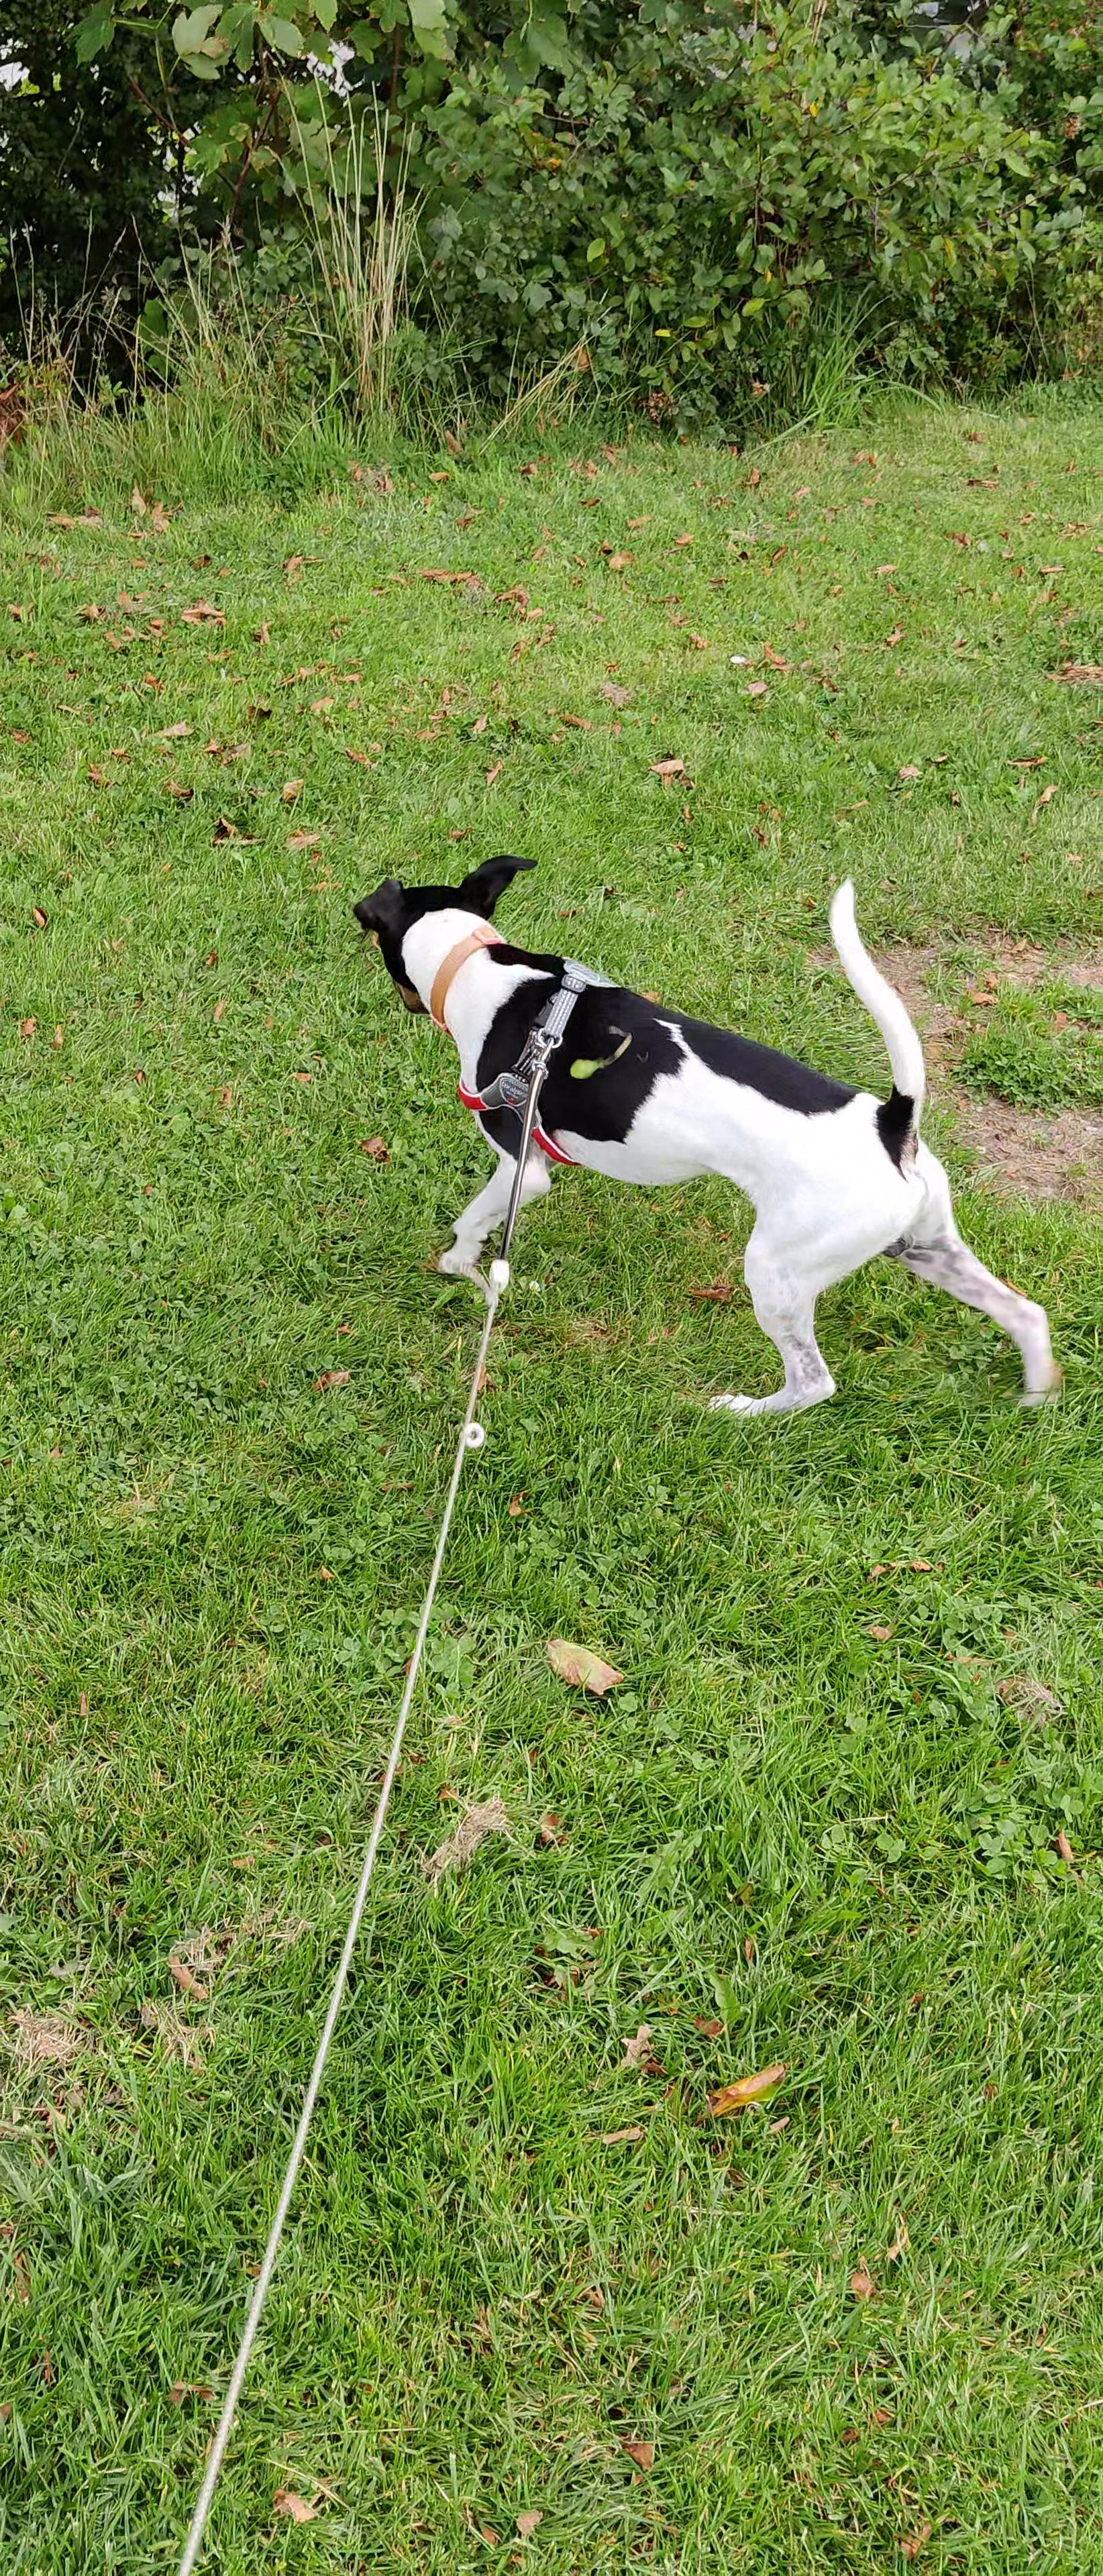Dog: (327, 843, 1078, 1434)
